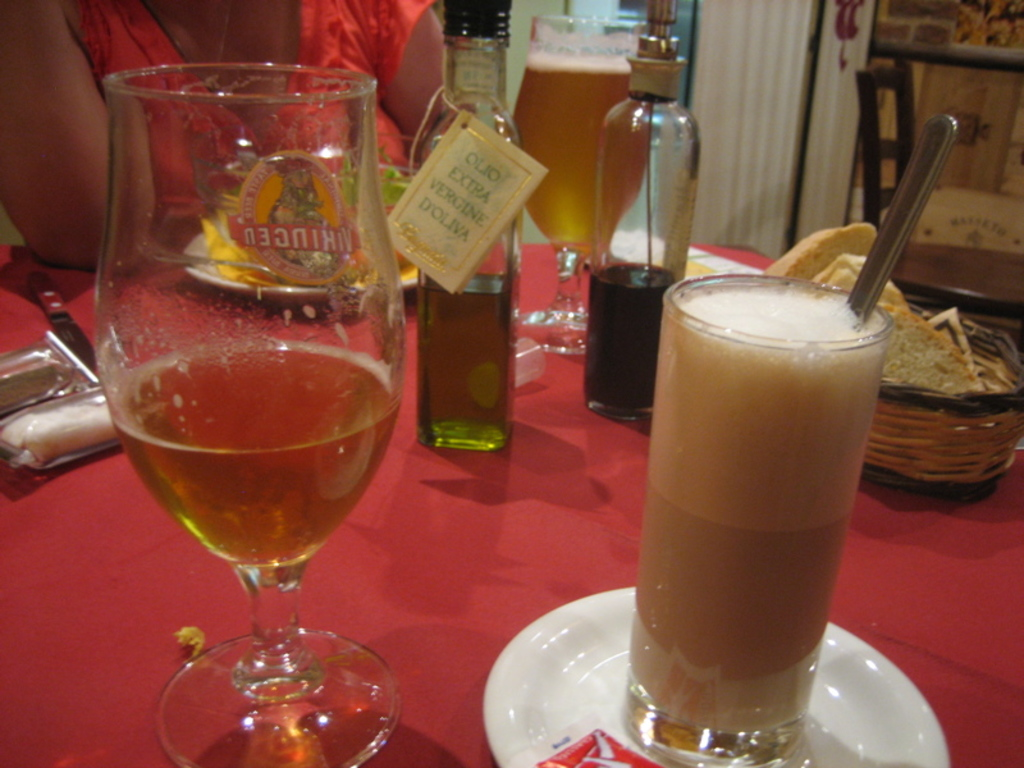Beer: (108, 337, 403, 582), (569, 0, 695, 423), (403, 0, 518, 456)
